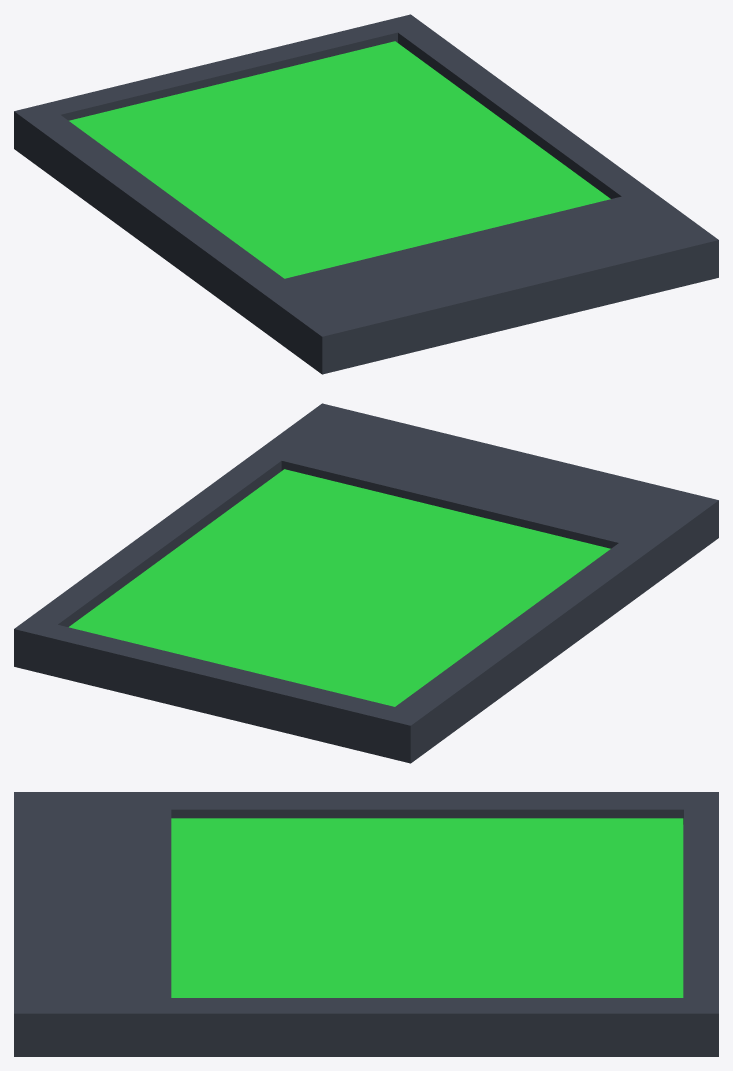
3 renders of one model, top to bottom at view 1: azimuth 30°, elevation 25°; view 2: azimuth 150°, elevation 25°; view 3: azimuth 270°, elevation 25°, orthographic. The views are drawn at different scales.
Parts seen in each view (by area): view 1: Cube.001; view 2: Cube.001; view 3: Cube.001.
Part boxes in pixels (bbox=[...]): Cube.001: bbox=[14, 14, 718, 374]; Cube.001: bbox=[14, 403, 718, 763]; Cube.001: bbox=[14, 792, 718, 1056].
Bounding box in the file's own units: 9.77 × 0.8889 × 13.15.
